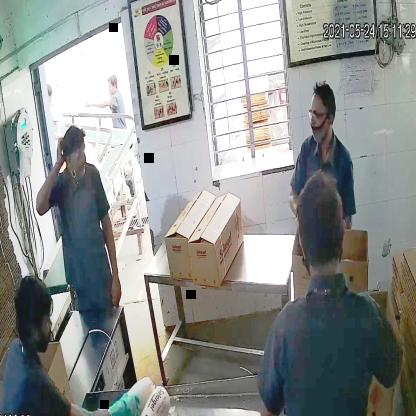goggles: (307, 104, 333, 124), (60, 146, 88, 164)
